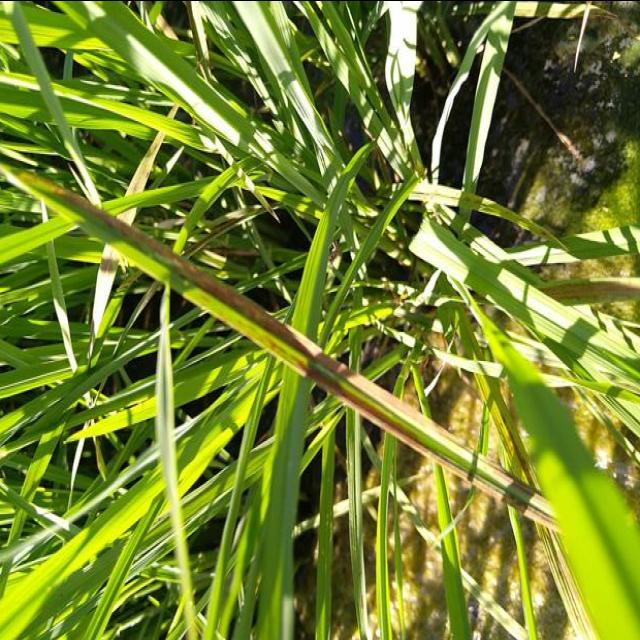Leaf Streak: (4, 166, 563, 528), (540, 276, 640, 302)
